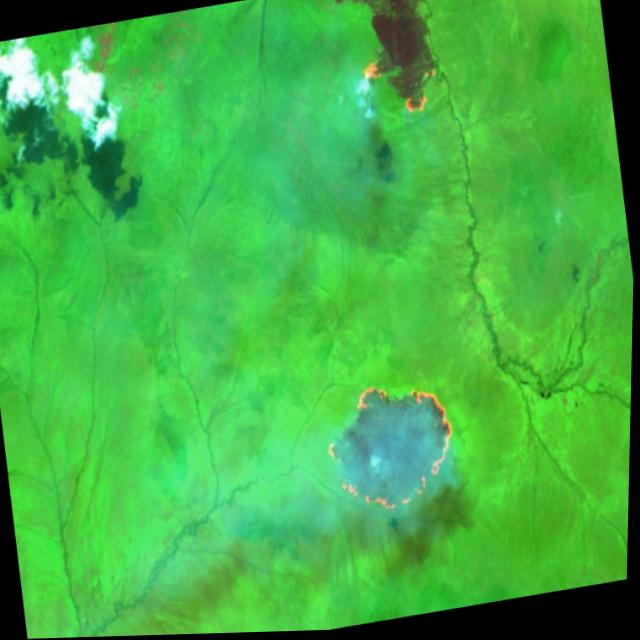fire: (316, 365, 474, 536), (347, 44, 440, 138)
